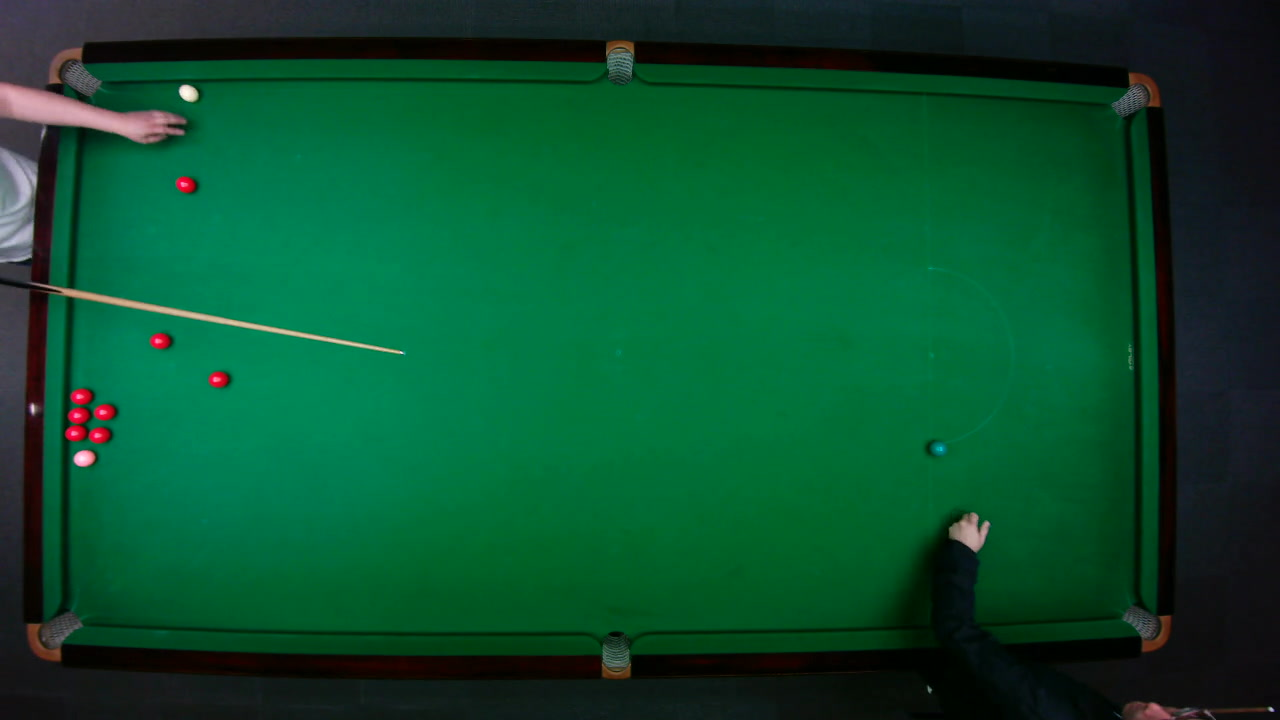bag: (25, 609, 83, 661), (46, 46, 101, 98), (1119, 603, 1171, 651), (1108, 71, 1161, 117), (600, 629, 630, 680), (605, 38, 633, 85)
cue: (0, 270, 405, 359)
green: (927, 439, 947, 456)
pink: (71, 448, 96, 467)
red: (65, 405, 90, 424), (68, 387, 93, 405), (87, 425, 111, 443), (62, 424, 87, 441), (93, 402, 116, 420), (174, 175, 196, 193), (148, 331, 170, 349), (207, 370, 229, 388)
white: (177, 82, 199, 102)
zone: (926, 265, 1013, 445)
